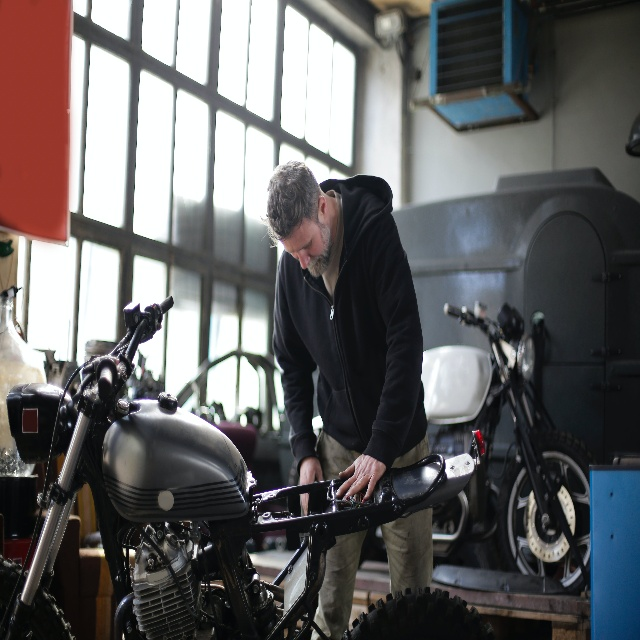Sin_guantes: (335, 448, 386, 504), (295, 457, 324, 516)
